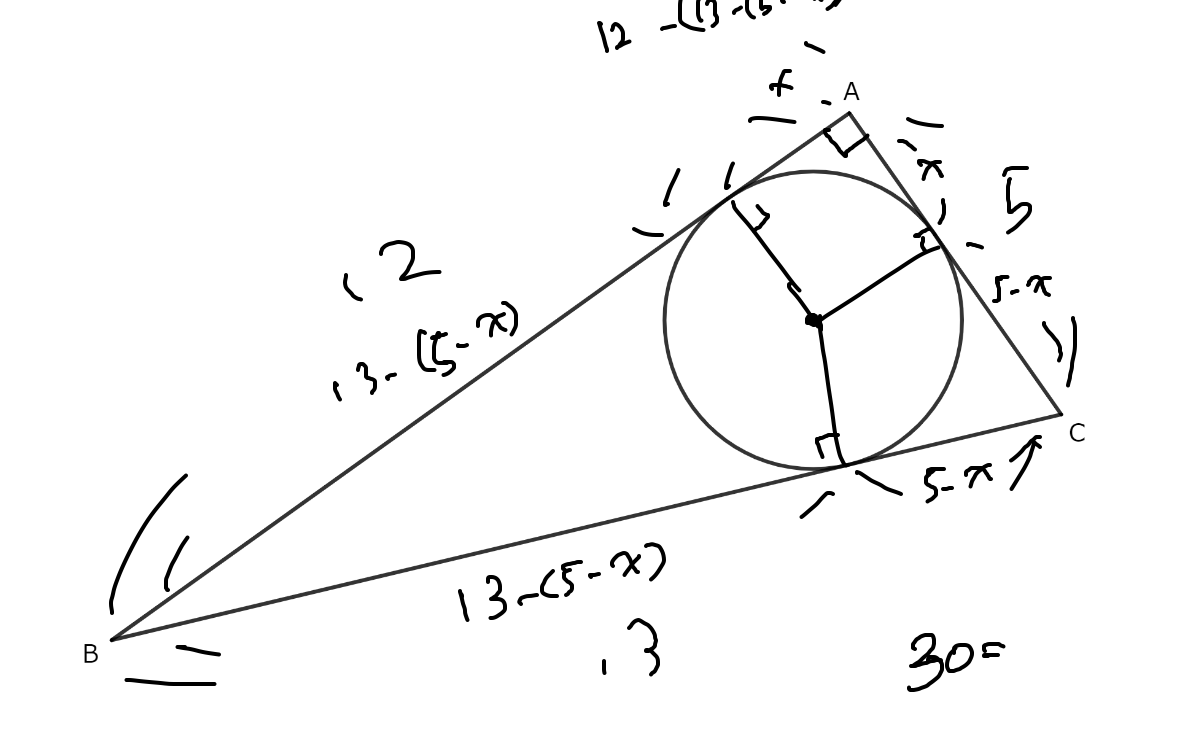Angle_Right: (815, 124, 875, 161), (808, 429, 835, 464), (740, 203, 767, 230)
